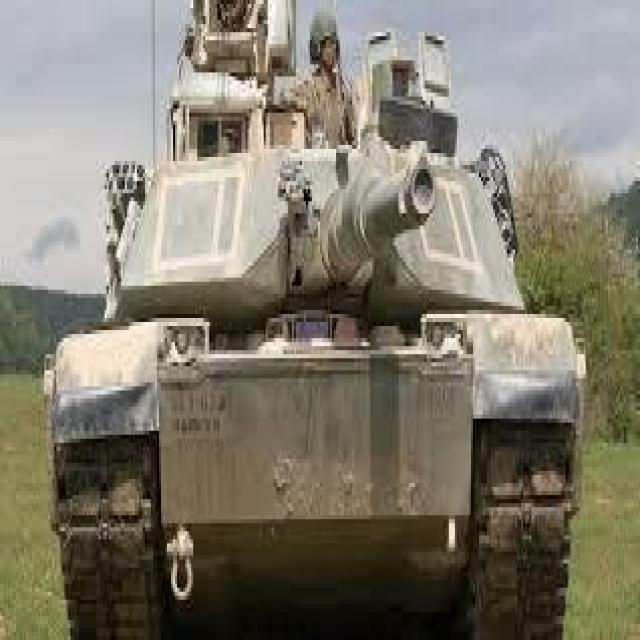Tanks: (20, 20, 572, 616)
